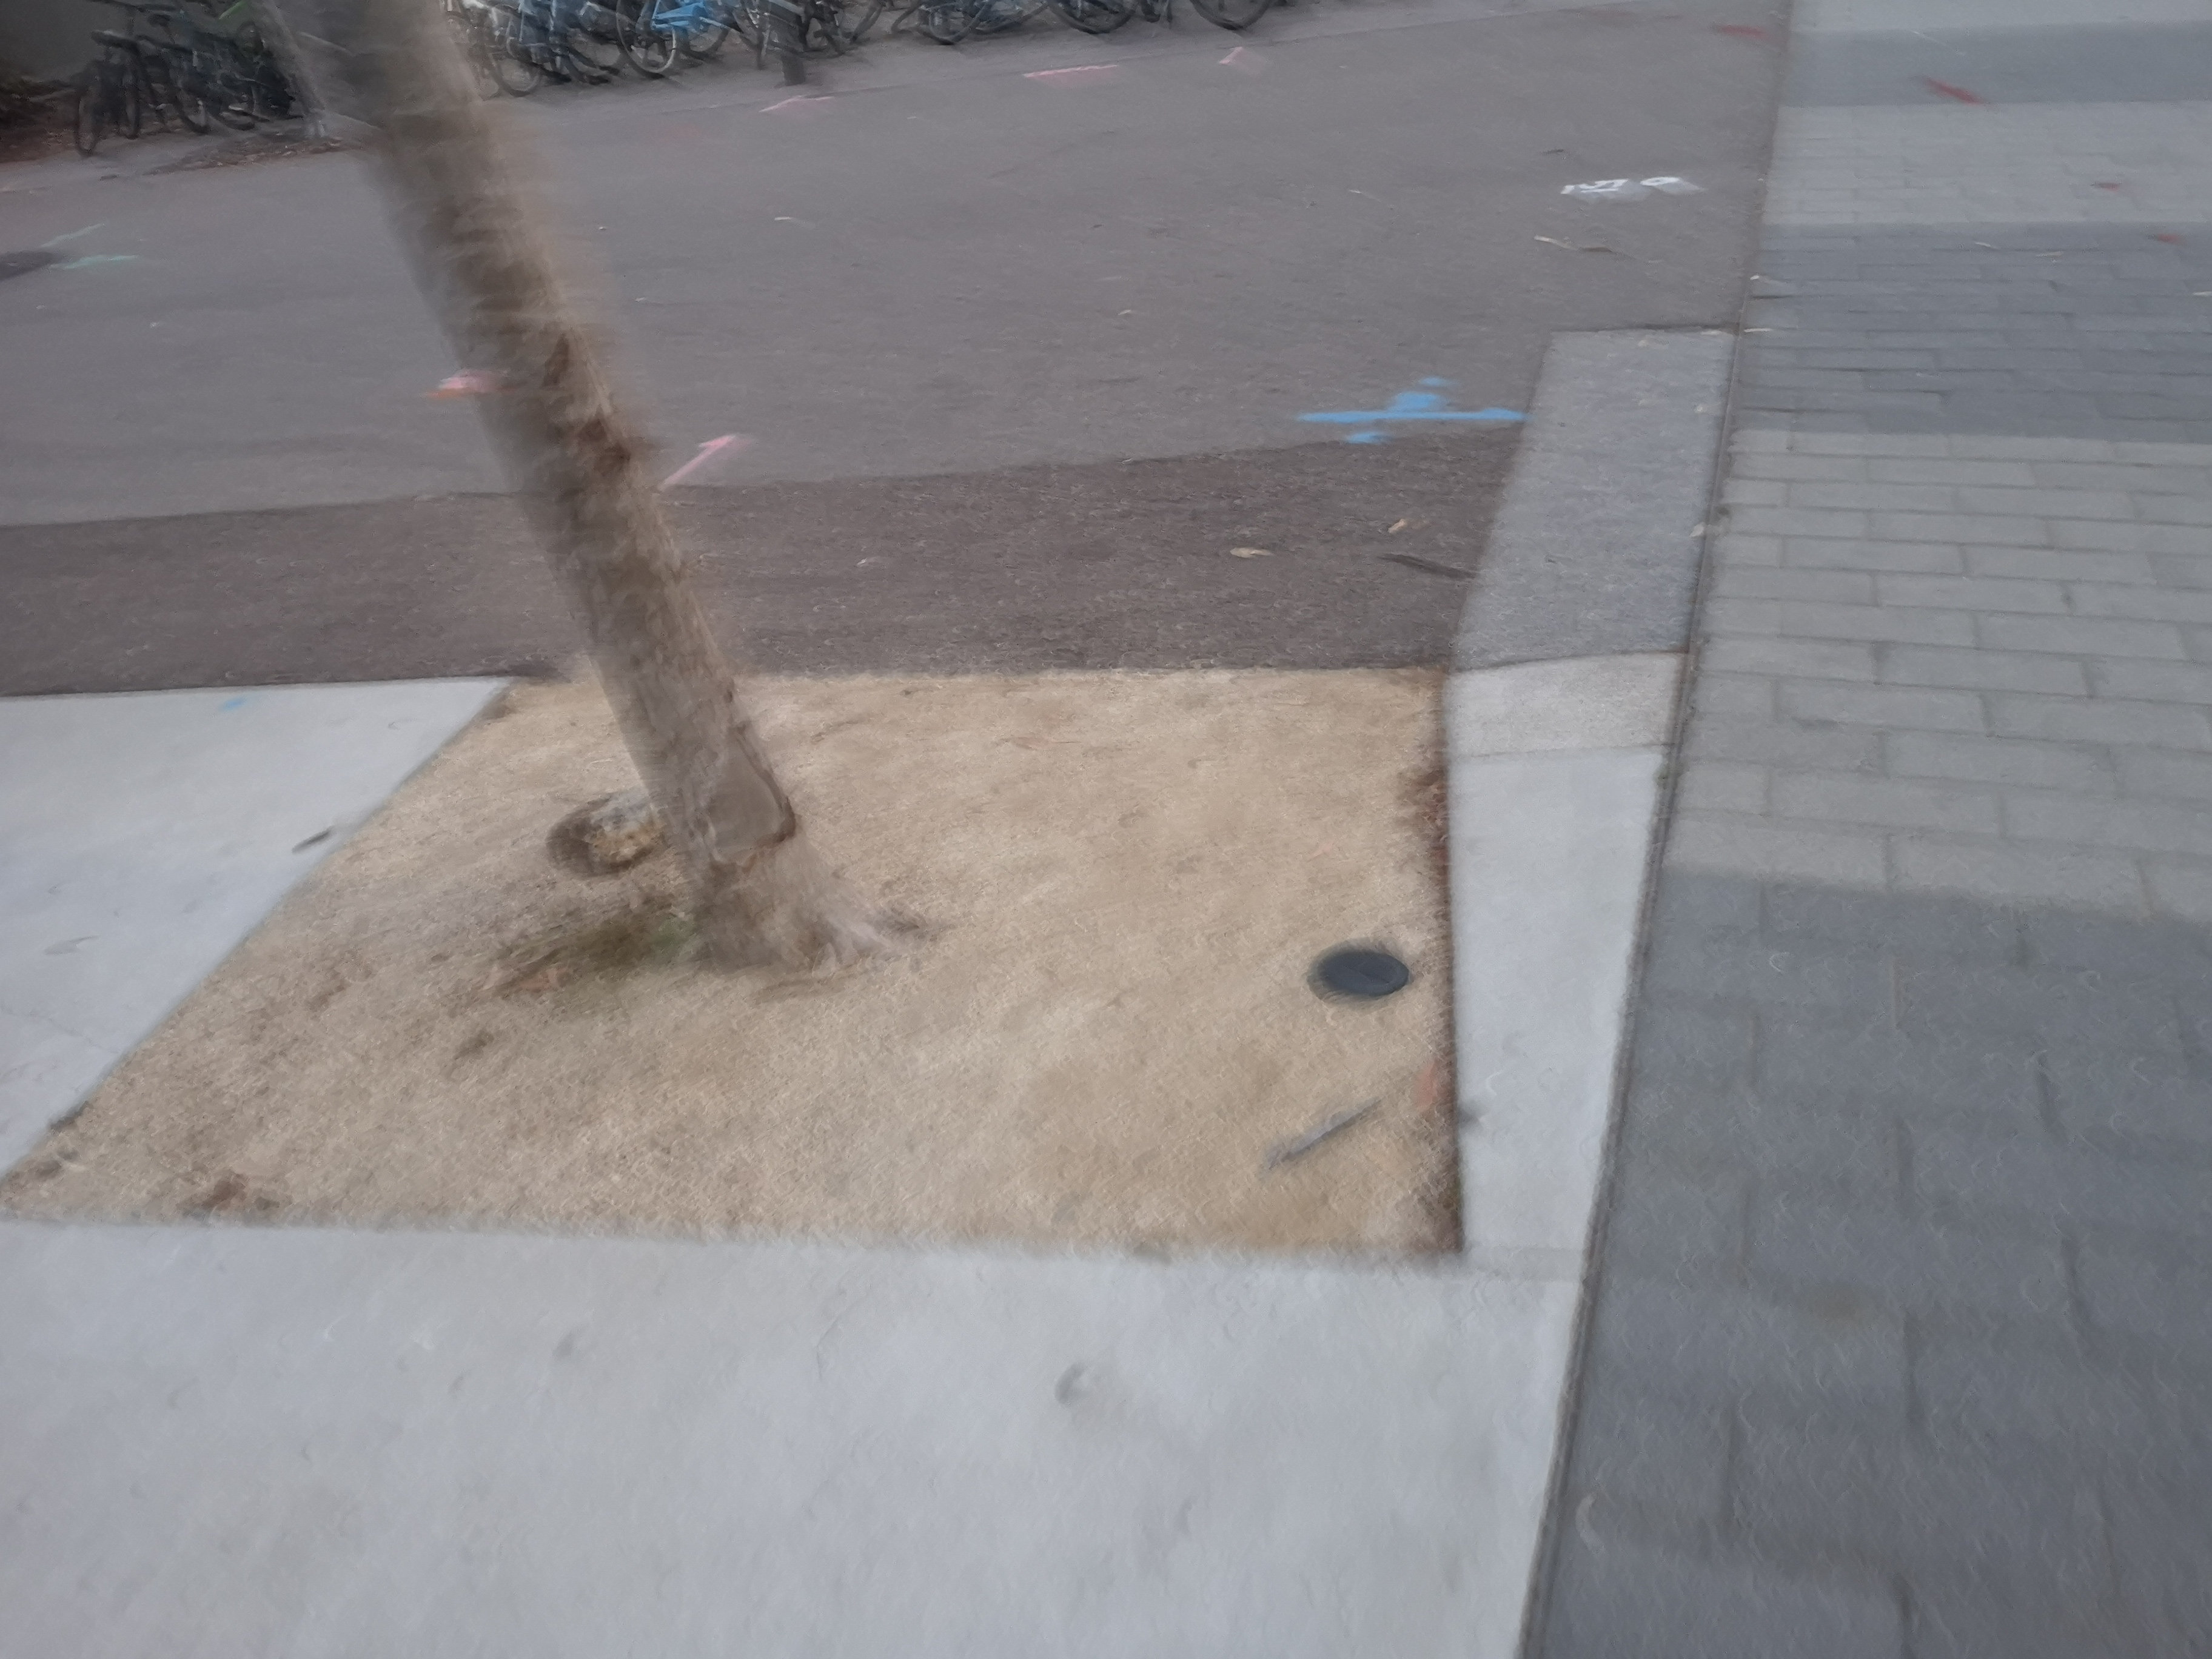Edge: (1393, 662, 1536, 1303)
Obstacle: (277, 19, 911, 978)
